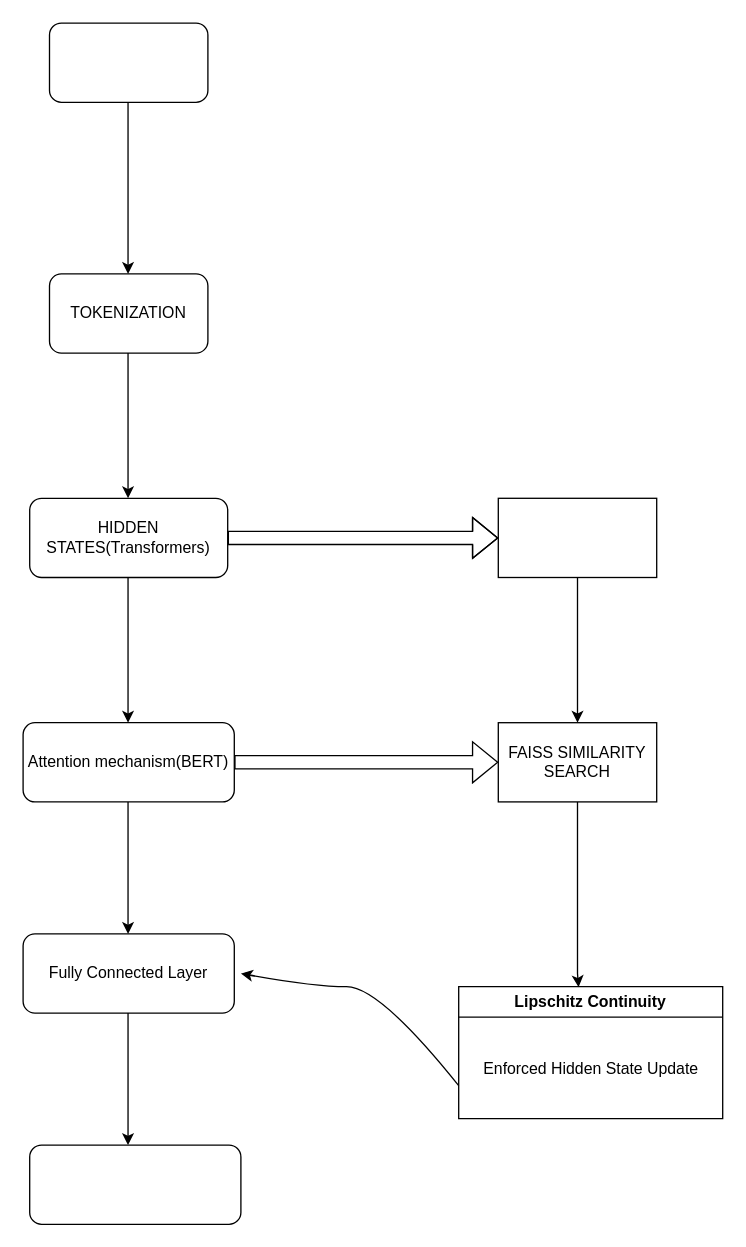
The diagram is 746 pixels wide and 1247 high, and some of its shapes have lost their labels. Each missing label, with the centre of its shape:
GRACE ADAPTER: (577,537)
INPUT SEQUENCE: (128,62)
OUTPUTS(Task Specific): (134,1184)
